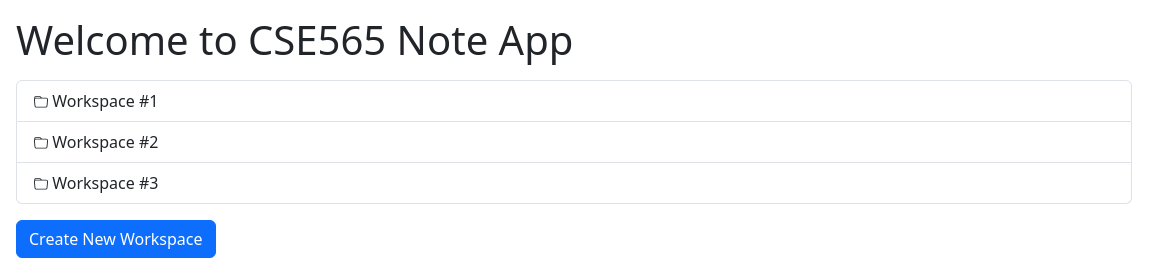
Test: Note display screen shows a note text
// Find the first workspace (Workspace #1) and click it
Click the link "Workspace #1". click: (105, 101)
box: [16,80,1132,122]
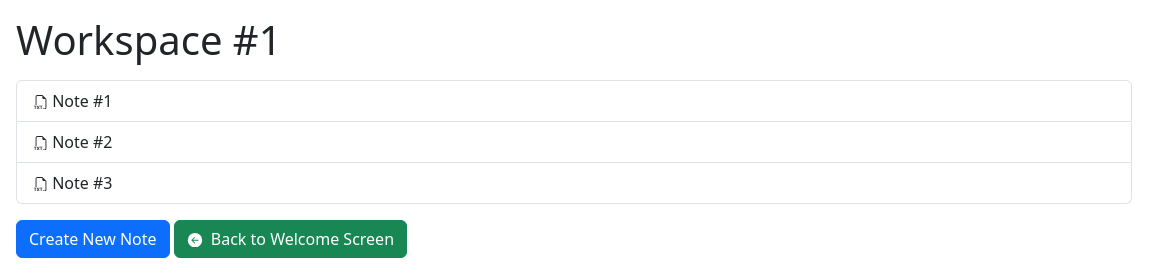
Check: the link "Note #1" is shown
// Navigate to the note screen
Click the link "Note #1". click: (82, 101)
box: [16,80,1132,122]
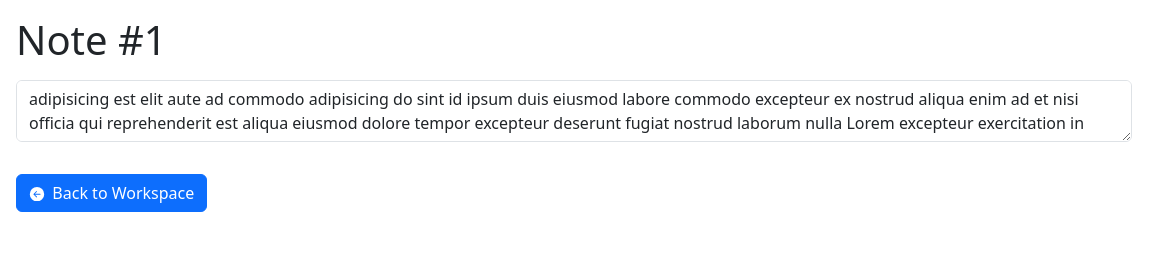
Check: the heading "Note #1" is shown, box [16,12,167,67]
Check: the text box with test id "content-text-area" is shown, box [16,80,1132,142]
Check: the link with test id "navigation-button" is shown, box [16,174,207,212]
